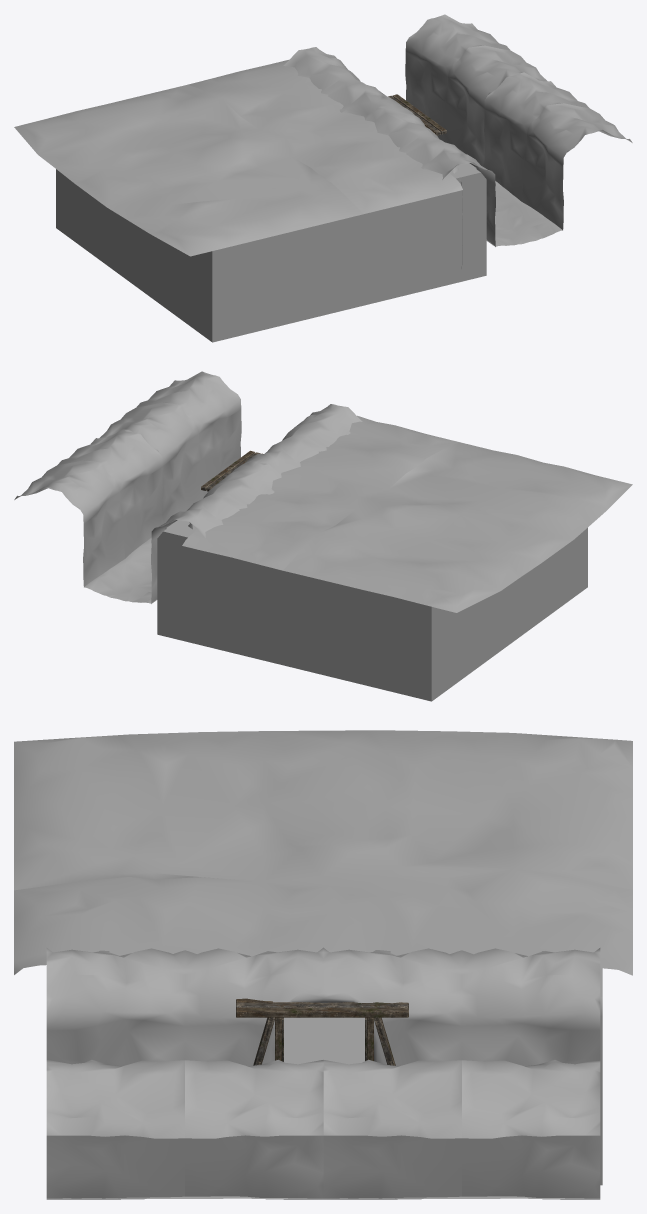
The model's file is Room_A.fbx.
3 views of the same model, one above another, from view 1: azimuth 30°, elevation 25°; view 2: azimuth 150°, elevation 25°; view 3: azimuth 270°, elevation 25° (orthographic). The views are drawn at different scales.
Parts seen in each view (by area): view 1: Room_A_LOD0, Room_A_Top_Ground_LOD0, Room_A_Wood_LOD0; view 2: Room_A_LOD0, Room_A_Top_Ground_LOD0, Room_A_Wood_LOD0; view 3: Room_A_Top_Ground_LOD0, Room_A_LOD0, Room_A_Wood_LOD0.
Part boxes in pixels (x1=…): Room_A_LOD0: x1=56, y1=14, x2=632, y2=342; Room_A_Top_Ground_LOD0: x1=14, y1=60, x2=462, y2=256; Room_A_Wood_LOD0: x1=388, y1=94, x2=446, y2=135; Room_A_LOD0: x1=14, y1=371, x2=587, y2=701; Room_A_Top_Ground_LOD0: x1=182, y1=415, x2=632, y2=612; Room_A_Wood_LOD0: x1=201, y1=450, x2=262, y2=491; Room_A_Top_Ground_LOD0: x1=14, y1=730, x2=632, y2=975; Room_A_LOD0: x1=46, y1=947, x2=602, y2=1199; Room_A_Wood_LOD0: x1=236, y1=998, x2=408, y2=1065.
Size of what is drawn, in the model's own units: 1371 by 335 by 895.
